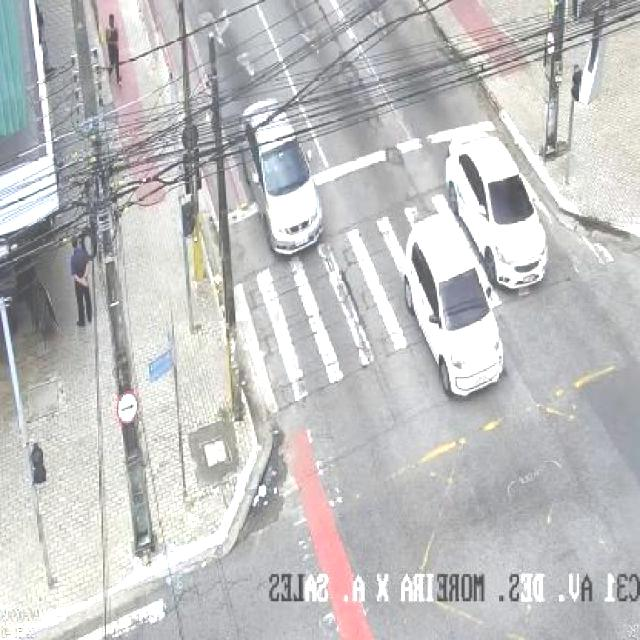Car: (401, 211, 508, 400), (444, 130, 550, 290), (239, 98, 328, 260)
